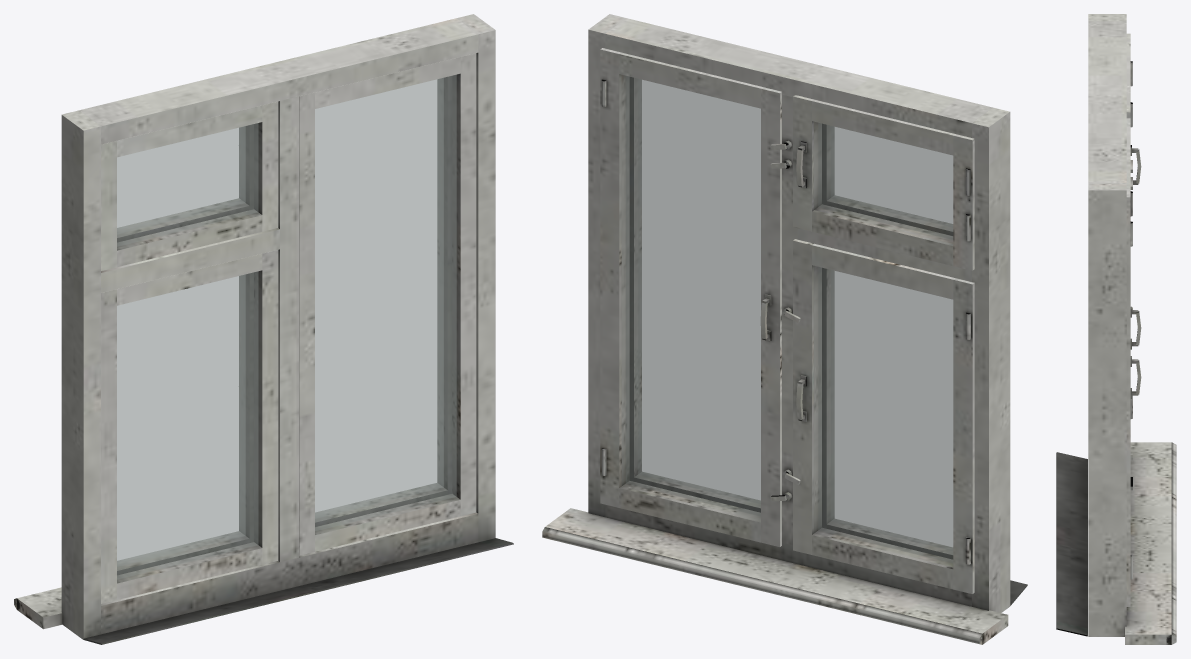
Rendered from win_2_kitchen_lod1_web.glb.
3 renders of one model, left to right at view 1: azimuth 30°, elevation 25°; view 2: azimuth 150°, elevation 25°; view 3: azimuth 270°, elevation 25°, orthographic. The views are drawn at different scales.
Parts seen in each view (by area): view 1: Win2Kitchen_Body, Glass_Sash_L_out, Glass_Sash_L_in, Glass_Sash_R_out, Glass_Sash_R_in, Sash_L_Mesh, Sash_R_Mesh, Fort_R_Mesh, Glass_Fort_R_out, Glass_Fort_R_in; view 2: Win2Kitchen_Body, Glass_Sash_L_in, Glass_Sash_L_out, Sash_L_Mesh, Glass_Sash_R_in, Glass_Sash_R_out, Sash_R_Mesh, Fort_R_Mesh, Glass_Fort_R_in, Glass_Fort_R_out; view 3: Win2Kitchen_Body, Sash_L_Mesh, Fort_R_Mesh, Sash_R_Mesh.
Part boxes in pixels (bbox=[...]): Win2Kitchen_Body: bbox=[14, 14, 513, 644]; Glass_Sash_L_out: bbox=[315, 75, 456, 530]; Glass_Sash_L_in: bbox=[315, 78, 443, 518]; Glass_Sash_R_out: bbox=[117, 271, 258, 579]; Glass_Sash_R_in: bbox=[117, 275, 245, 566]; Sash_L_Mesh: bbox=[299, 53, 476, 555]; Sash_R_Mesh: bbox=[101, 250, 278, 603]; Fort_R_Mesh: bbox=[101, 101, 278, 270]; Glass_Fort_R_out: bbox=[117, 123, 258, 246]; Glass_Fort_R_in: bbox=[117, 126, 245, 233]; Win2Kitchen_Body: bbox=[542, 14, 1027, 644]; Glass_Sash_L_in: bbox=[626, 76, 760, 516]; Glass_Sash_L_out: bbox=[638, 79, 760, 503]; Sash_L_Mesh: bbox=[600, 48, 781, 546]; Glass_Sash_R_in: bbox=[818, 267, 952, 562]; Glass_Sash_R_out: bbox=[831, 270, 952, 550]; Sash_R_Mesh: bbox=[793, 239, 974, 593]; Fort_R_Mesh: bbox=[793, 95, 974, 270]; Glass_Fort_R_in: bbox=[818, 123, 952, 239]; Glass_Fort_R_out: bbox=[831, 126, 952, 227]; Win2Kitchen_Body: bbox=[1056, 14, 1176, 644]; Sash_L_Mesh: bbox=[1126, 118, 1141, 606]; Fort_R_Mesh: bbox=[1126, 33, 1141, 184]; Sash_R_Mesh: bbox=[1130, 191, 1141, 418].
Size of the model in its own units: 1.42 by 1.53 by 0.3741.
2 materials, 1 textured.
